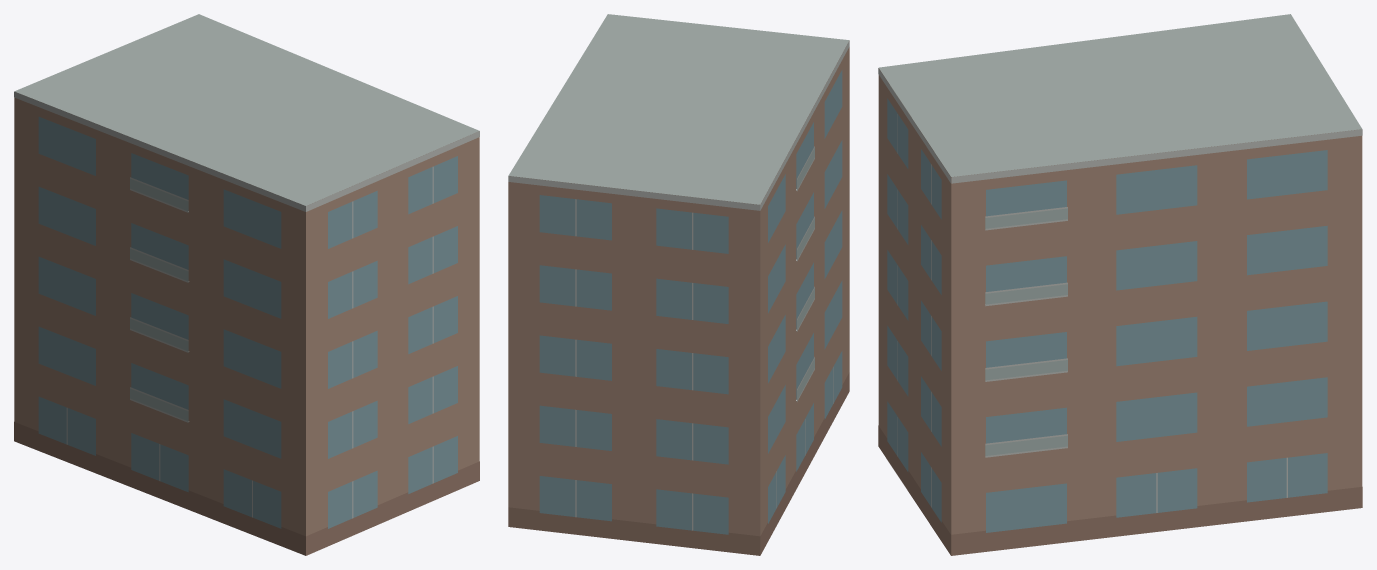
Rendered from survey-upis-32562352.glb.
3 views of the same model, side by side, from view 1: azimuth 30°, elevation 25°; view 2: azimuth 150°, elevation 25°; view 3: azimuth 270°, elevation 25° (orthographic). The views are drawn at different scales.
Parts seen in each view (by area): view 1: survey-upis-32562352.tmp; view 2: survey-upis-32562352.tmp; view 3: survey-upis-32562352.tmp.
Part boxes in pixels (bbox=[...]): survey-upis-32562352.tmp: bbox=[14, 14, 479, 555]; survey-upis-32562352.tmp: bbox=[508, 14, 849, 555]; survey-upis-32562352.tmp: bbox=[878, 14, 1362, 555].
Size of the model in its own units: 13.03 by 14.1 by 16.34.
